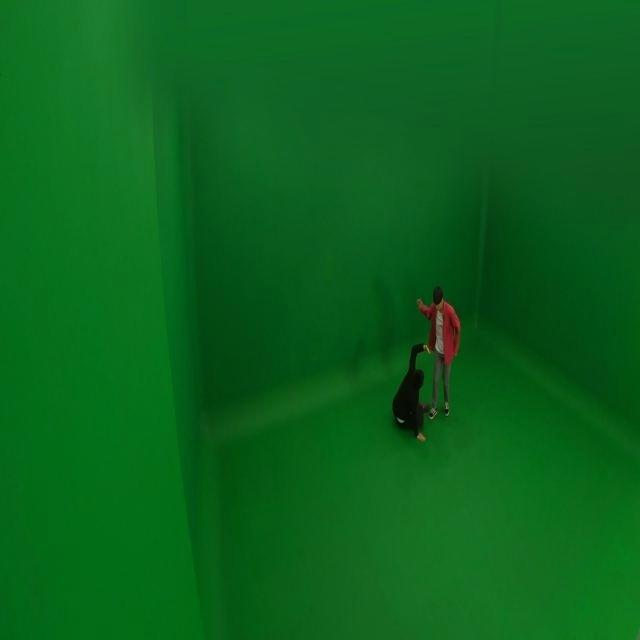fight: (394, 287, 461, 439)
